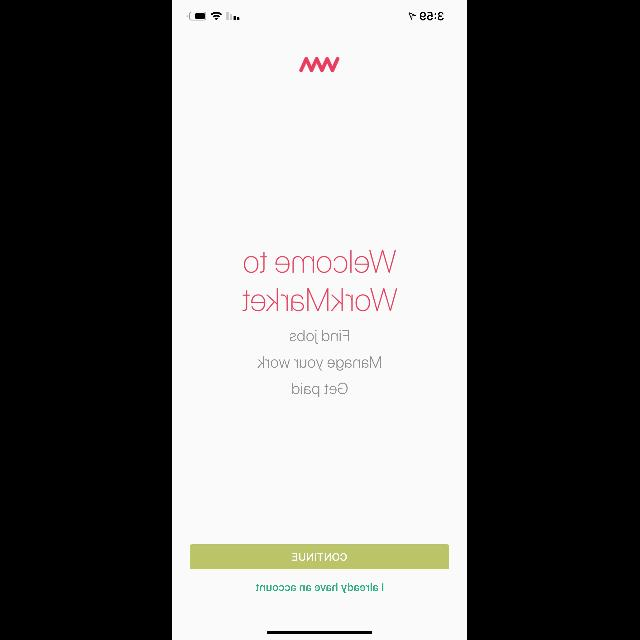image: (300, 58, 340, 72)
text: (242, 250, 398, 312), (258, 356, 382, 370), (256, 583, 384, 593), (290, 330, 350, 344), (294, 383, 348, 397)
textbutton: (190, 544, 450, 570)
uppertaskbar: (188, 12, 444, 20)
